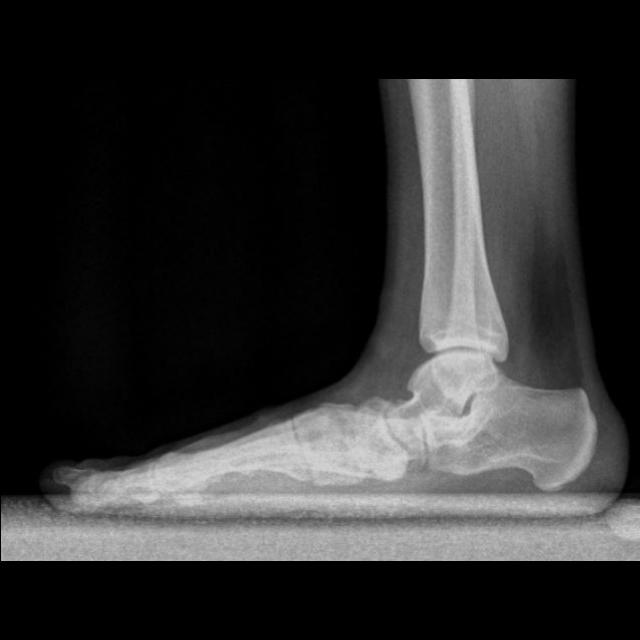a: (425, 380, 595, 489)
b: (357, 398, 410, 478)
c: (152, 420, 314, 496)
